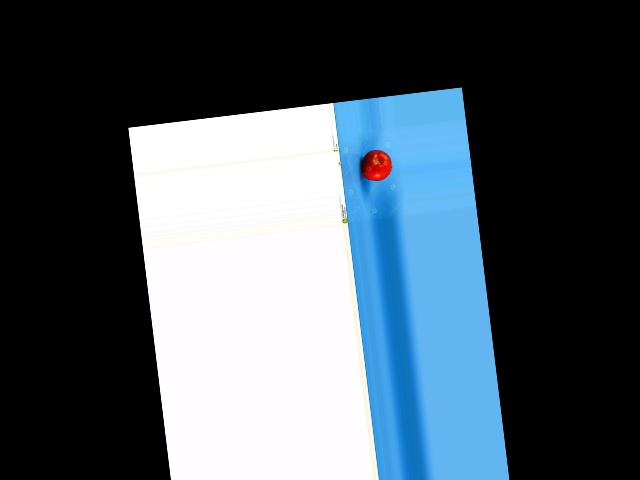tomato: (359, 147, 393, 182)
